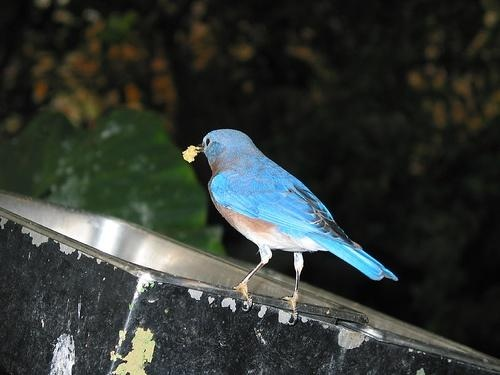bird: (196, 129, 397, 315)
